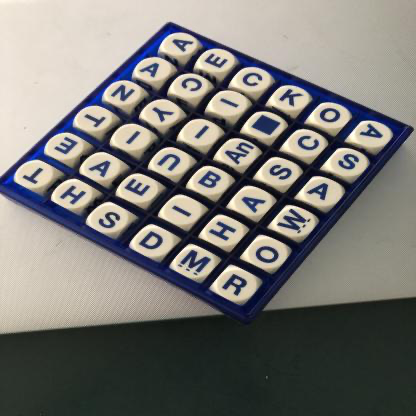a: (302, 179, 342, 209), (234, 189, 273, 218), (134, 57, 173, 85), (86, 155, 122, 183), (355, 123, 393, 149), (165, 34, 198, 59)
an: (221, 141, 259, 168)
b: (193, 169, 232, 196)
c: (288, 131, 325, 158), (236, 69, 272, 95), (174, 74, 210, 99)
d: (132, 229, 177, 259)
e: (120, 176, 162, 205), (47, 134, 87, 161), (200, 50, 236, 76)
h: (207, 217, 245, 247), (55, 182, 95, 210)
i: (163, 199, 205, 226), (183, 120, 221, 149), (114, 126, 153, 153), (213, 92, 249, 117)
k: (272, 86, 312, 113)
m: (176, 247, 219, 279)
n: (108, 82, 142, 107)
o: (248, 239, 288, 271), (314, 104, 351, 130)
r: (216, 269, 259, 302)
s: (89, 205, 131, 235), (329, 150, 370, 178), (263, 159, 300, 188)
t: (19, 162, 57, 190), (77, 107, 116, 134)
u: (152, 150, 192, 177)
w: (274, 206, 318, 239)
wild: (250, 113, 287, 141)
y: (145, 101, 182, 130)
